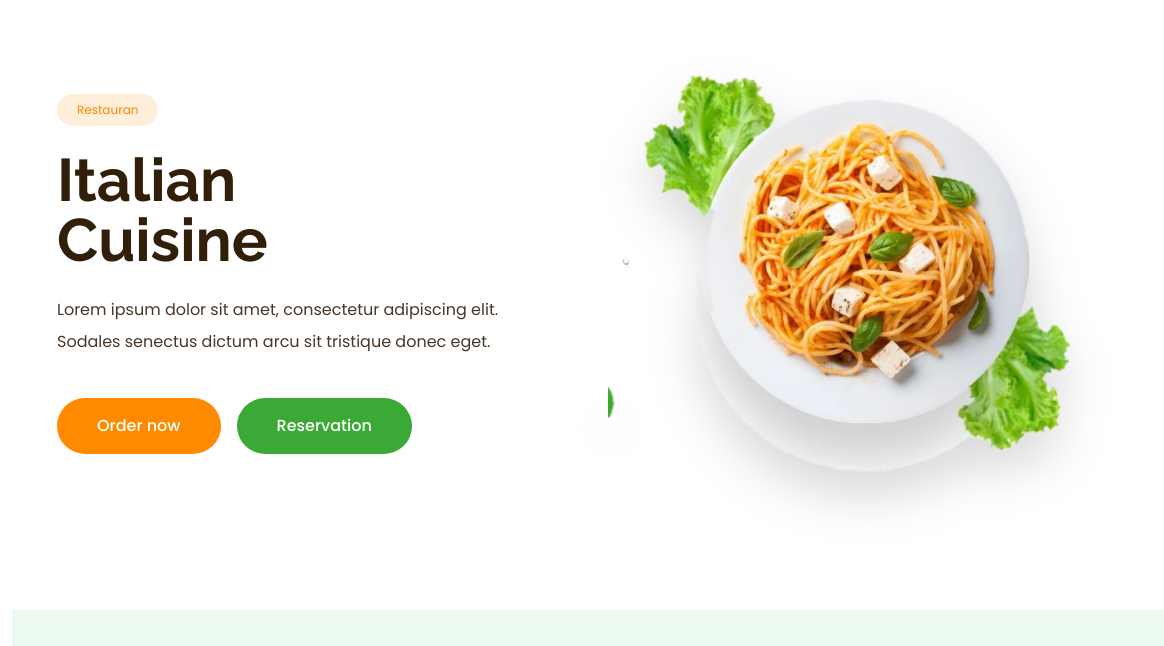
Order now (issue 2) › Home buttons go to order / reservation
What coordinates should you click on to do the following:
click the link "Order now"
I would click on:
 (139, 426)
Its box is top-left (57, 398), bottom-right (220, 454).
(page scrolled)
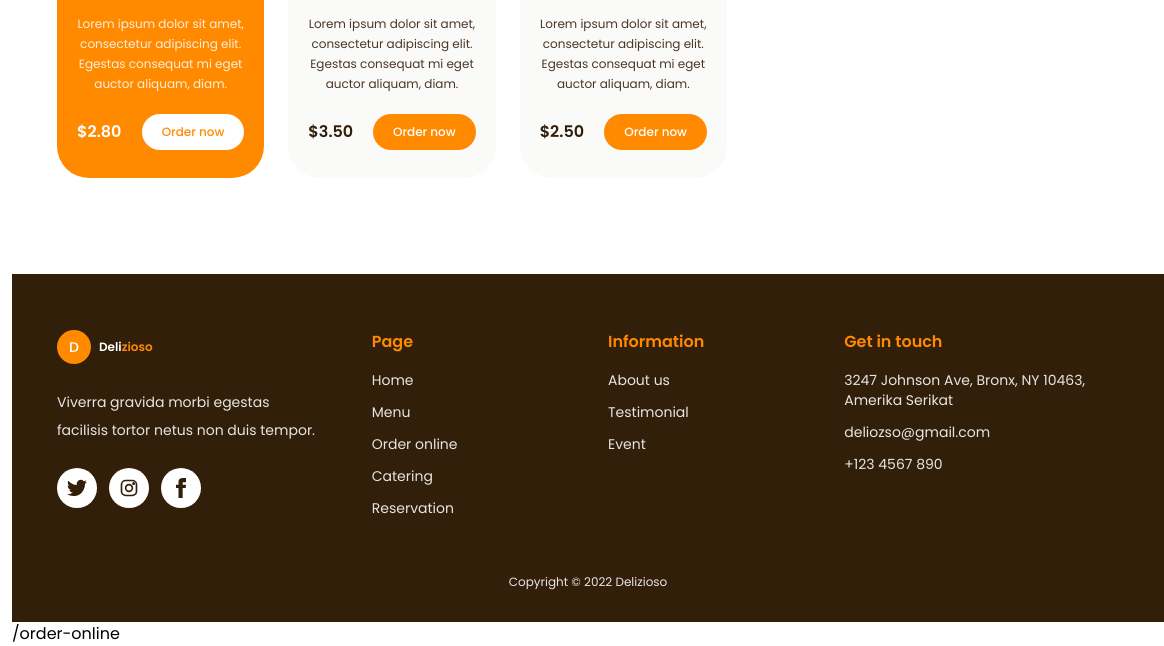
Check: the text with test id "path" reads "/order-online", box top-left (12, 622), bottom-right (120, 645)
